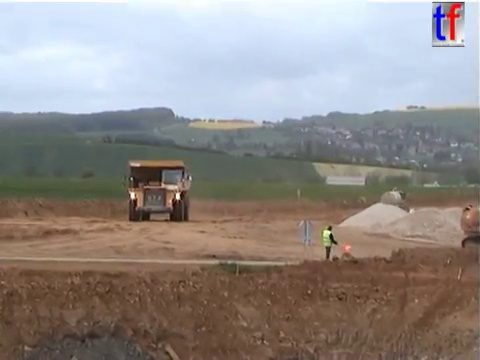excavator: (458, 202, 480, 259)
truck: (122, 158, 193, 223), (378, 186, 410, 216)
worker: (319, 223, 339, 263)
